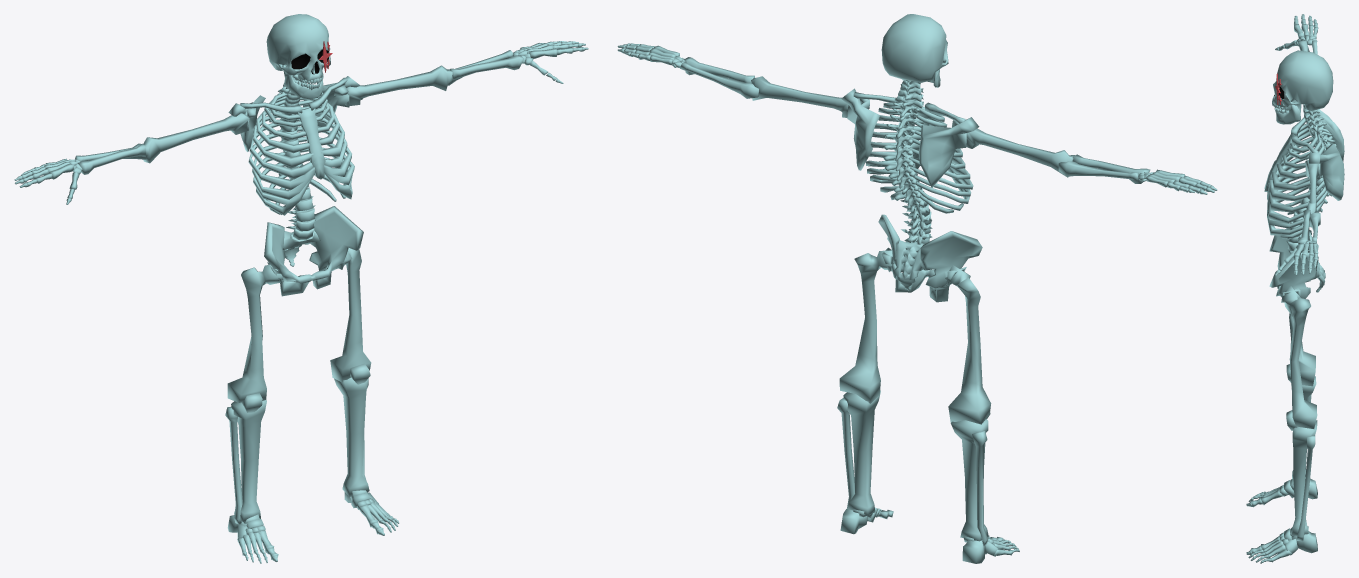
The model's file is skelly_lowpoly_mesh.fbx.
The picture shows the model from 3 angles, left to right: view 1: azimuth 30°, elevation 25°; view 2: azimuth 150°, elevation 25°; view 3: azimuth 270°, elevation 25°; orthographic projection. The views are drawn at different scales.
Visible parts, largest first — view 1: Skelly_LowPoly_Mesh; view 2: Skelly_LowPoly_Mesh; view 3: Skelly_LowPoly_Mesh.
Part boxes in pixels (x1=…): Skelly_LowPoly_Mesh: x1=14, y1=14, x2=588, y2=563; Skelly_LowPoly_Mesh: x1=617, y1=14, x2=1217, y2=563; Skelly_LowPoly_Mesh: x1=1246, y1=14, x2=1344, y2=563.
Size of the model in its own units: 205 by 175 by 32.74.
